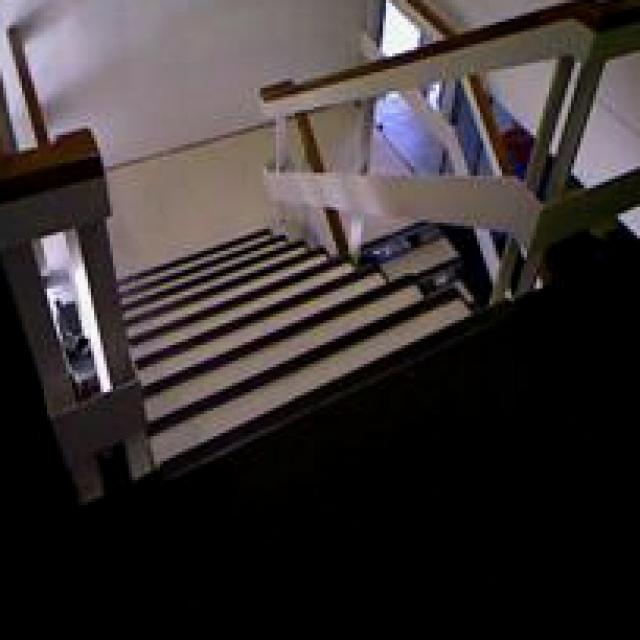downstair: (127, 277, 538, 484)
